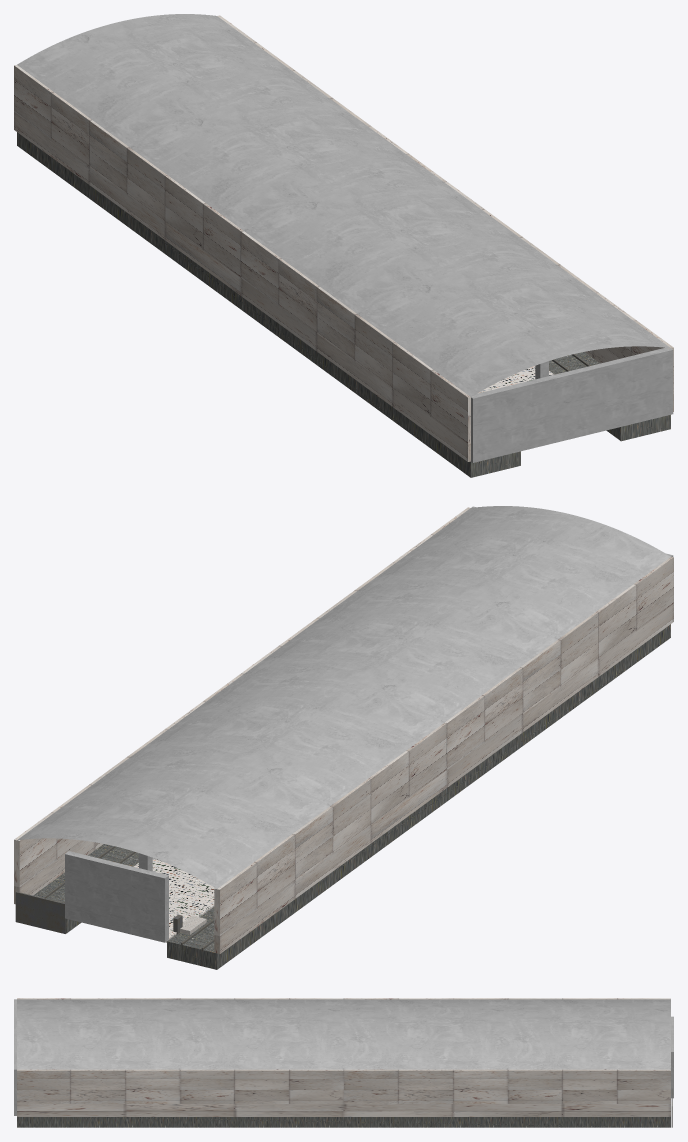
File: anden_baquedano_materiales.glb
3 renders of one model, top to bottom at view 1: azimuth 30°, elevation 25°; view 2: azimuth 150°, elevation 25°; view 3: azimuth 270°, elevation 25°, orthographic. The views are drawn at different scales.
Visible parts, largest first — view 1: Boveda, Muro_Lateral_Oeste_Franja, Muro_Norte, Muro_Lateral_Oeste_Zocalo, Foso_Via1, Muro_Lateral_Este_Franja, Foso_Via2; view 2: Boveda, Muro_Lateral_Oeste_Franja, Muro_Lateral_Oeste_Zocalo, Foso_Via1, Muro_Sur, Muro_Lateral_Este_Franja, Piso_Anden, Reja_Tunel_Este, Foso_Via2, Muro_Lateral_Este_Zocalo; view 3: Boveda, Muro_Lateral_Este_Franja, Muro_Lateral_Este_Zocalo, Foso_Via2, Muro_Lateral_Oeste_Franja, Muro_Norte, Muro_Sur.
Part boxes in pixels (x1=…): Boveda: x1=17, y1=14, x2=670, y2=396; Muro_Lateral_Oeste_Franja: x1=14, y1=65, x2=472, y2=444; Muro_Norte: x1=471, y1=347, x2=673, y2=462; Muro_Lateral_Oeste_Zocalo: x1=14, y1=112, x2=470, y2=461; Foso_Via1: x1=17, y1=132, x2=520, y2=477; Muro_Lateral_Este_Franja: x1=217, y1=15, x2=673, y2=393; Foso_Via2: x1=549, y1=352, x2=670, y2=441; Boveda: x1=17, y1=506, x2=670, y2=888; Muro_Lateral_Oeste_Franja: x1=214, y1=557, x2=673, y2=936; Muro_Lateral_Oeste_Zocalo: x1=214, y1=604, x2=673, y2=953; Foso_Via1: x1=167, y1=624, x2=670, y2=969; Muro_Sur: x1=65, y1=851, x2=168, y2=942; Muro_Lateral_Este_Franja: x1=14, y1=507, x2=470, y2=887; Piso_Anden: x1=133, y1=858, x2=214, y2=942; Reja_Tunel_Este: x1=15, y1=891, x2=66, y2=933; Foso_Via2: x1=33, y1=844, x2=138, y2=933; Muro_Lateral_Este_Zocalo: x1=14, y1=840, x2=102, y2=904; Boveda: x1=17, y1=999, x2=670, y2=1069; Muro_Lateral_Este_Franja: x1=17, y1=1069, x2=670, y2=1103; Muro_Lateral_Este_Zocalo: x1=17, y1=1104, x2=670, y2=1116; Foso_Via2: x1=17, y1=1117, x2=670, y2=1127; Muro_Lateral_Oeste_Franja: x1=17, y1=998, x2=670, y2=999; Muro_Norte: x1=14, y1=999, x2=16, y2=1115; Muro_Sur: x1=671, y1=1016, x2=673, y2=1098.
Bounding box in the file's own units: 14.4 × 6.6 × 55.5.
Materials: 12 (9 with a texture image).
